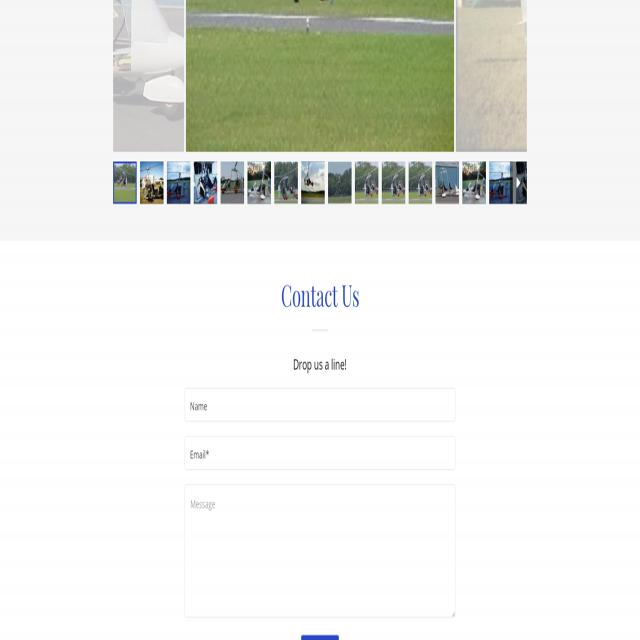button: (186, 0, 454, 152), (113, 0, 184, 153), (457, 0, 526, 152), (113, 161, 137, 204), (140, 161, 164, 204), (167, 161, 191, 204), (220, 161, 244, 204), (247, 161, 271, 204), (274, 161, 298, 204), (301, 161, 325, 204), (328, 161, 352, 204), (355, 161, 379, 204), (435, 161, 459, 204), (462, 161, 486, 204), (194, 161, 217, 204), (382, 161, 405, 204), (409, 161, 432, 204), (490, 161, 512, 204), (510, 160, 527, 203)
field: (185, 486, 455, 618), (185, 388, 455, 422), (185, 436, 455, 470)
